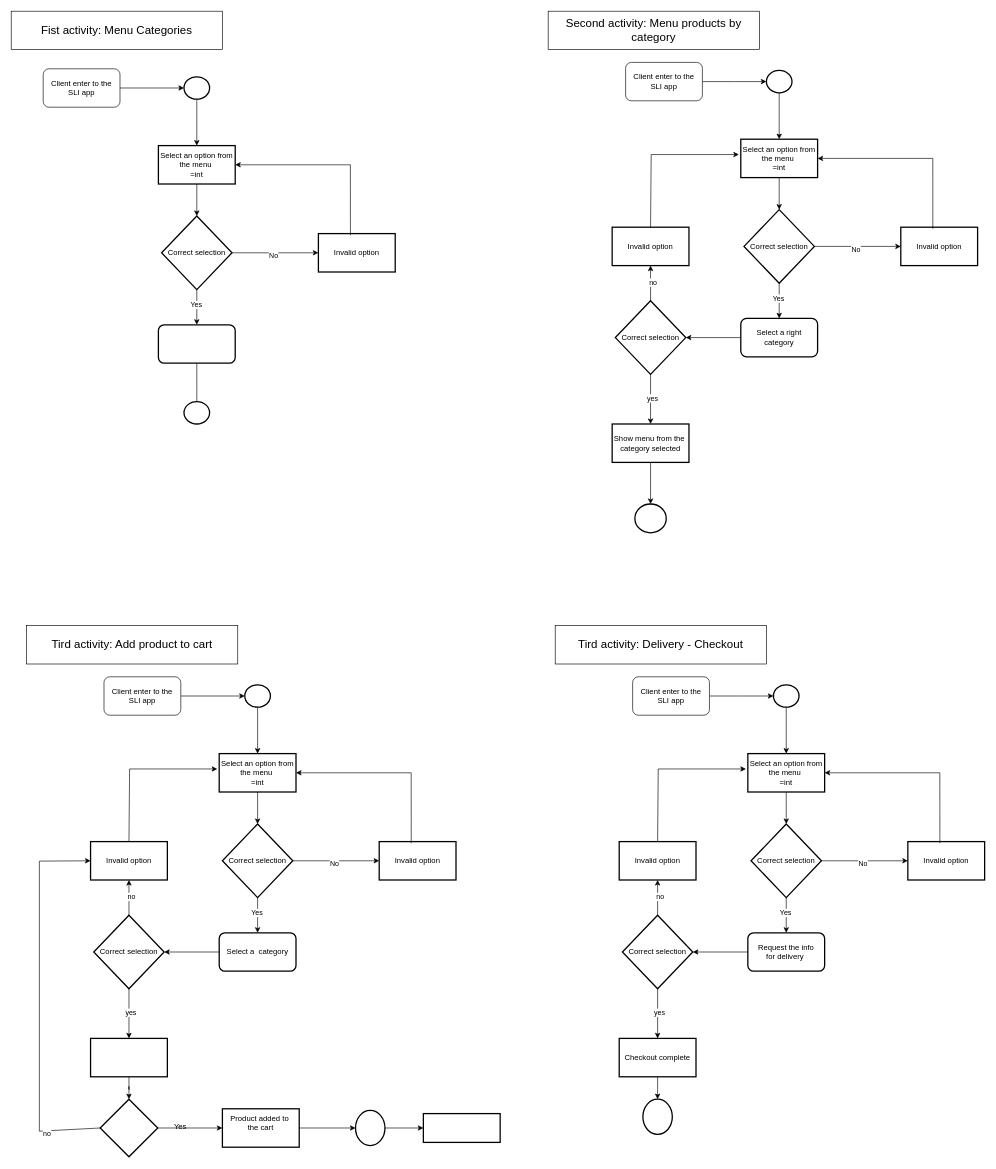
The diagram is 996 pixels wide and 1169 high, and some of its shapes have lost their labels. The shapes that lost their labels are listed below. From the top down, each one's centre as x and y in pixels, then its label:
At point (196, 344): "Show categories menu".
At point (129, 1057): "Select product number".
At point (128, 1127): "Correct number".
At point (461, 1128): "View of the full cart".
